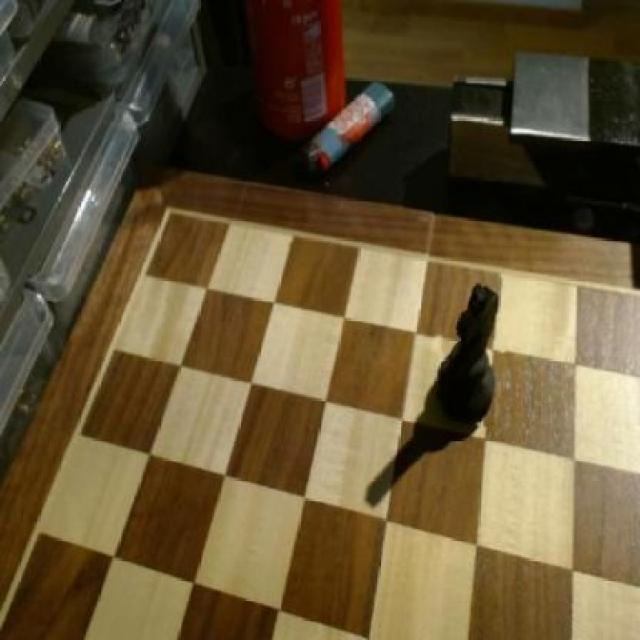black-king: (434, 274, 508, 427)
